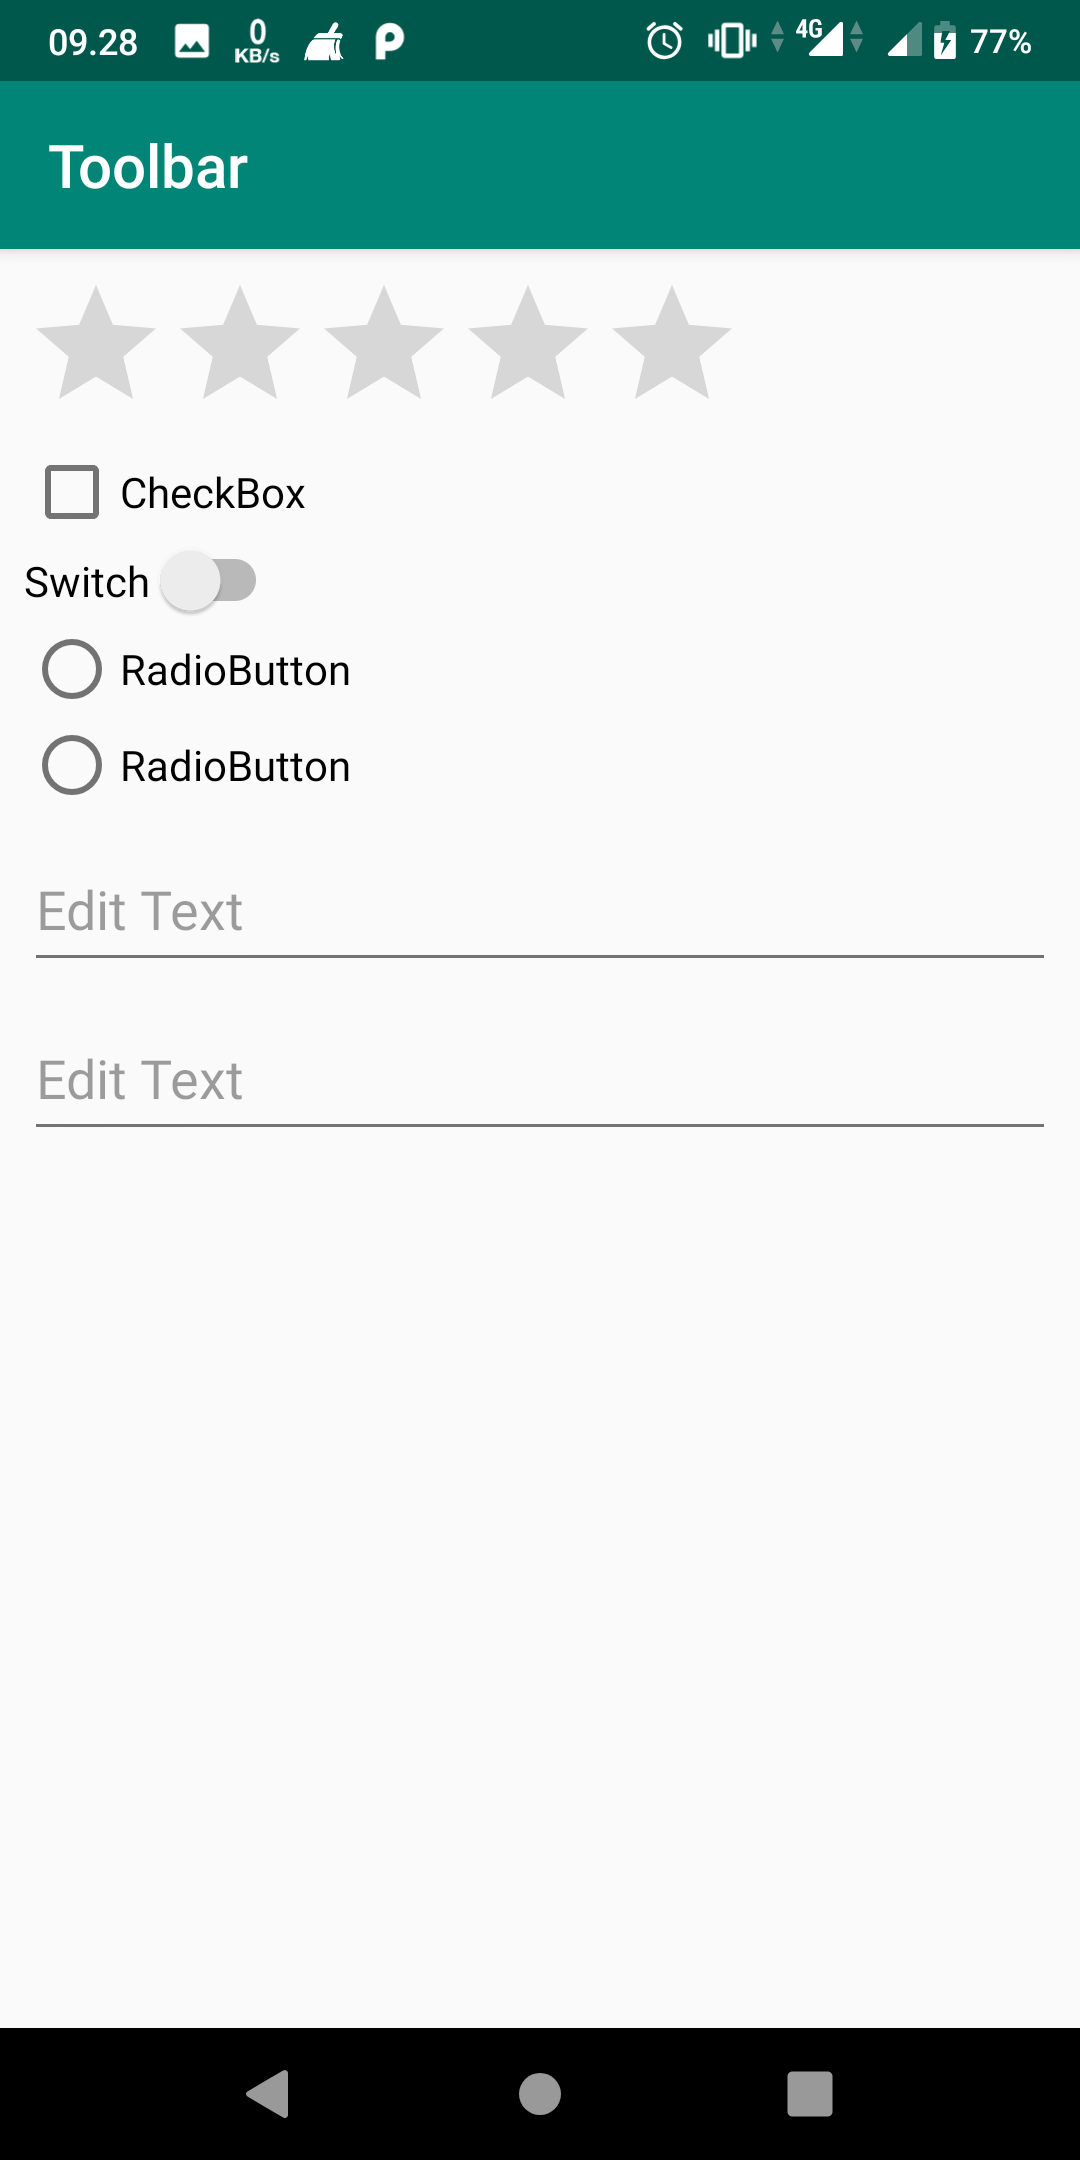checkBox: (39, 455, 315, 530)
editText: (22, 873, 1061, 986), (28, 1035, 1063, 1147)
radioButton: (32, 722, 364, 806), (34, 631, 361, 707)
ratingBar: (34, 282, 744, 412)
switch: (12, 554, 293, 612)
toolbar: (3, 85, 1080, 247)
